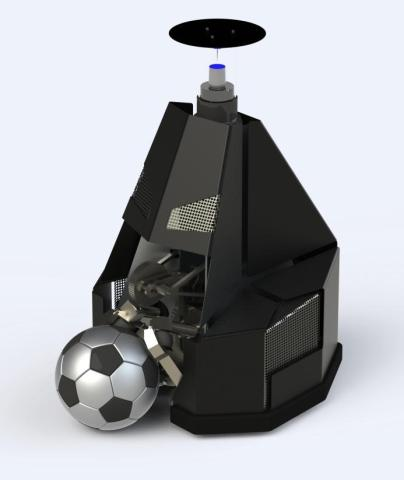robot: (78, 18, 350, 440)
